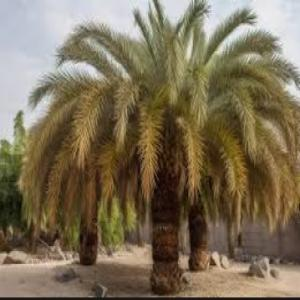palm tree: (18, 0, 299, 294)
